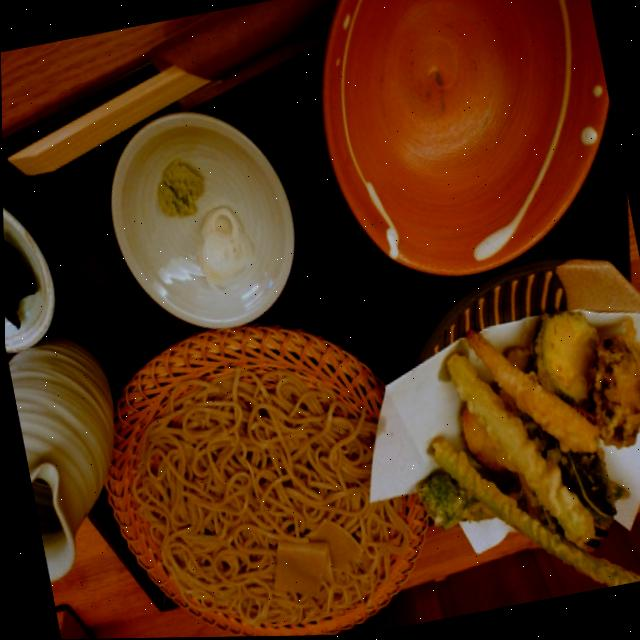面条主食: (70, 287, 448, 639)
